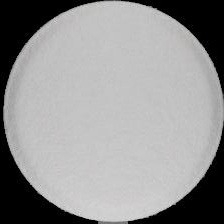51079-103: (0, 0, 224, 224)
